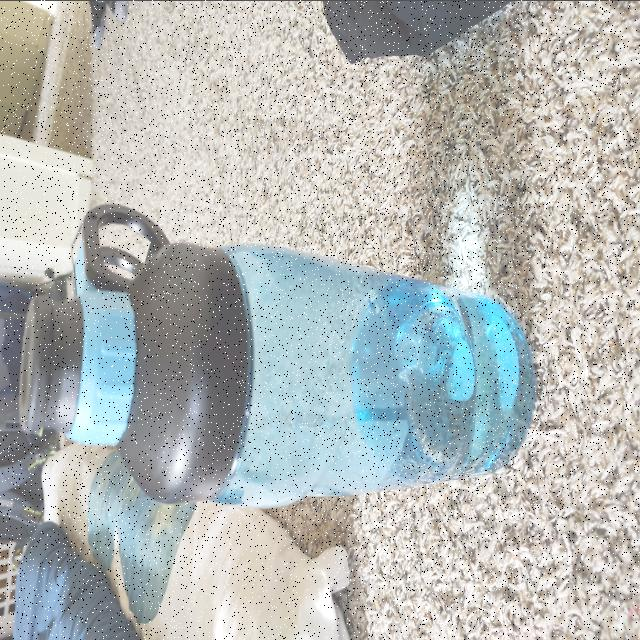bottle: (23, 203, 527, 488)
